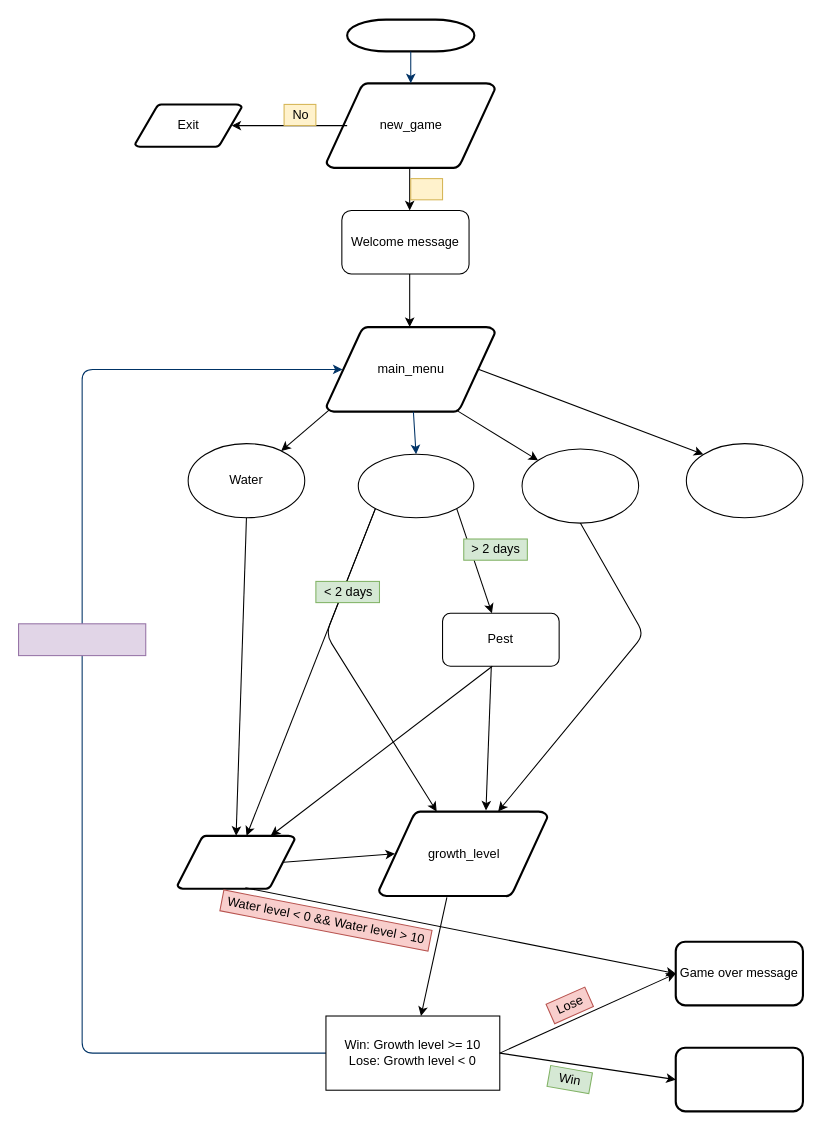
The diagram is 823 pixels wide and 1130 high, and some of its shapes have lost their labels. The shapes that lost their labels are listed below. From the top down, each one's centre as x and y in pixels, then its label:
the point at 410,35: start
the point at 426,189: Yes
the point at 415,485: Move outside
the point at 580,485: Fertilizer
the point at 744,480: Help function
the point at 81,639: Loop until Growth level > = 10
the point at 235,861: water_level
the point at 738,1079: Congratulations message and plant
